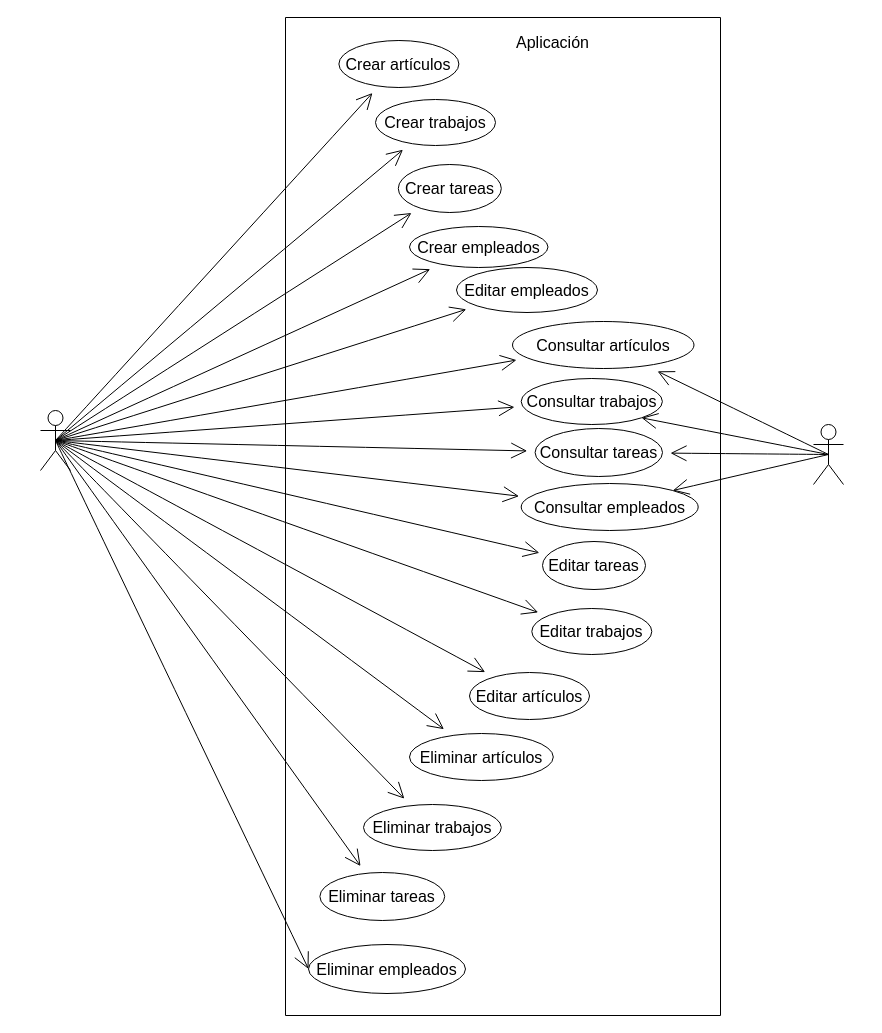
Image size: 882x1033. Some labels were removed from this diagram. Each missing label, with the centre of its shape:
Empleado: the point at 828,454
Encargado: the point at 55,440
